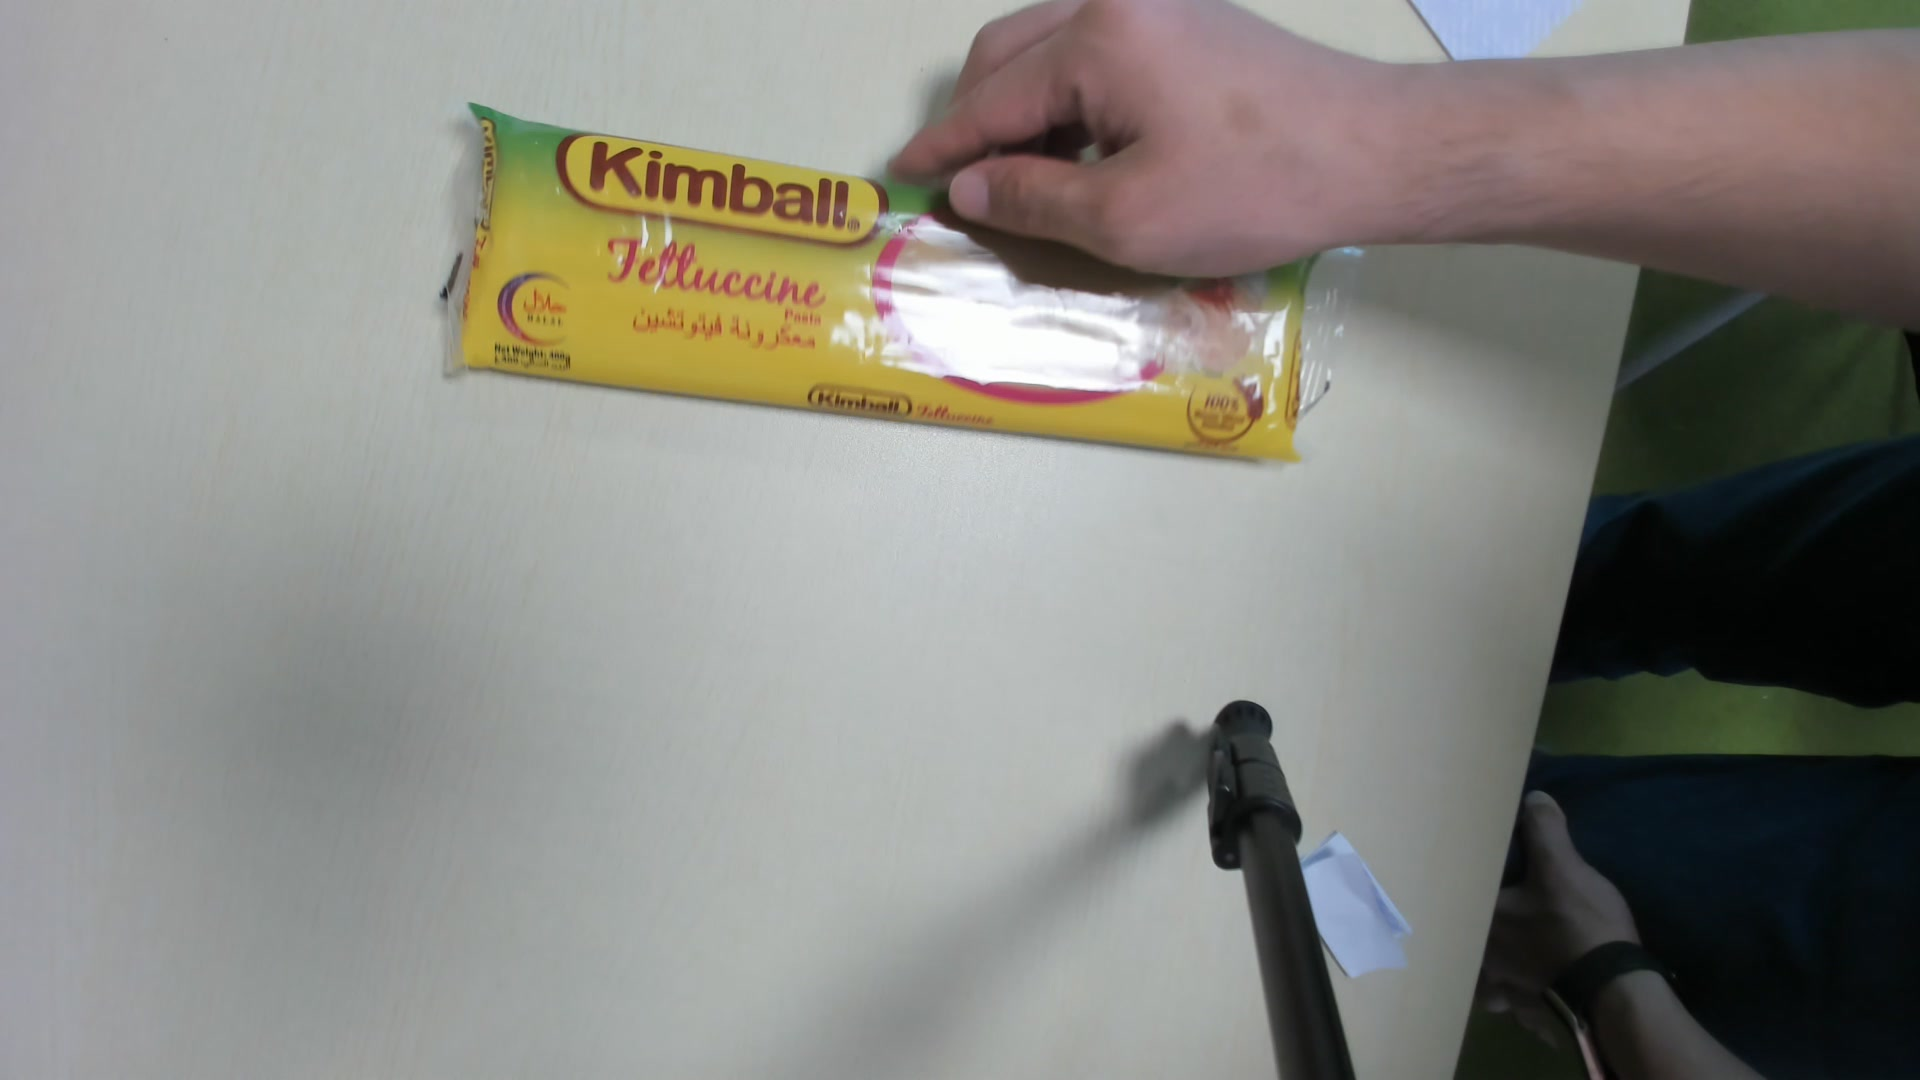Pasta_400-499g_Halal_NonHealthy: (446, 108, 1361, 472)
